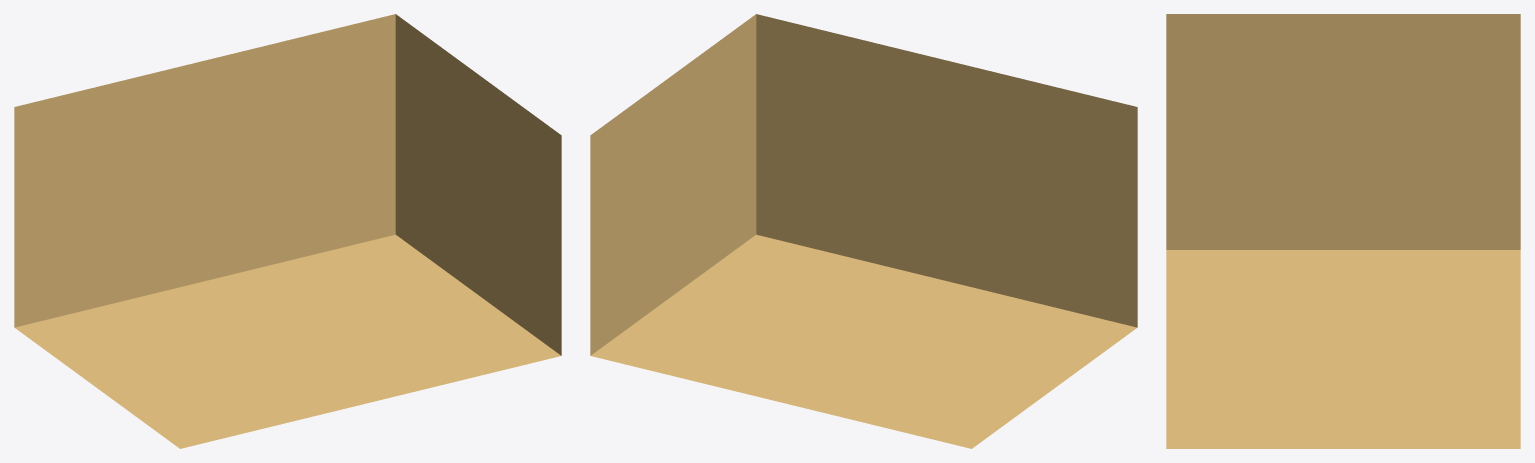
Rendered from decorative-lighting-quantum-garden-023.glb.
The picture shows the model from 3 angles, left to right: view 1: azimuth 30°, elevation 25°; view 2: azimuth 150°, elevation 25°; view 3: azimuth 270°, elevation 25°; orthographic projection. The views are drawn at different scales.
Parts seen in each view (by area): view 1: Quantum Garden Decorative Lighting; view 2: Quantum Garden Decorative Lighting; view 3: Quantum Garden Decorative Lighting.
Part boxes in pixels (box(x1,y1,x2,y2)): Quantum Garden Decorative Lighting: box(14, 14, 561, 448); Quantum Garden Decorative Lighting: box(590, 14, 1137, 448); Quantum Garden Decorative Lighting: box(1166, 14, 1520, 448).
Size of the model in its own units: 1.7 by 0.94 by 1.28.
